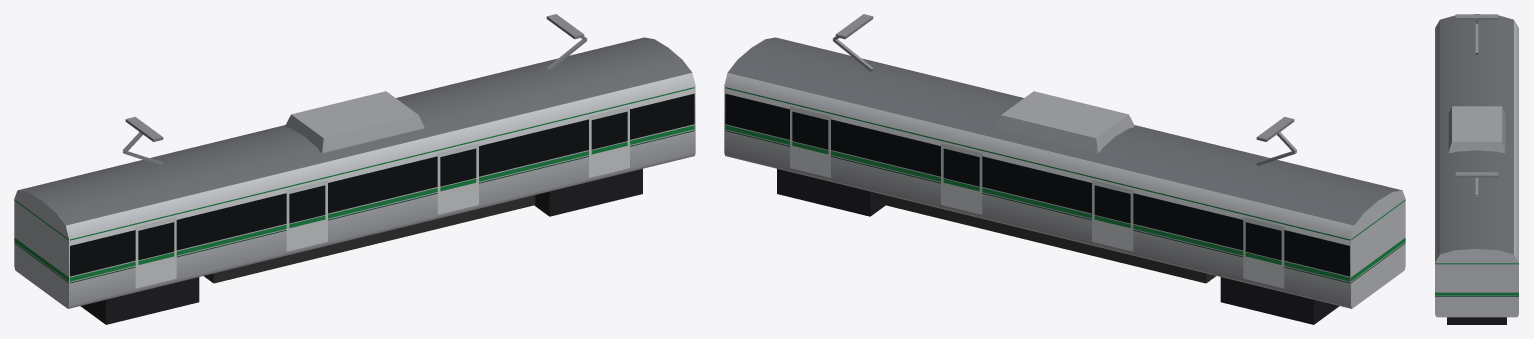
Rendered from r122_Mp_far.glb.
3 renders of one model, left to right at view 1: azimuth 30°, elevation 25°; view 2: azimuth 150°, elevation 25°; view 3: azimuth 270°, elevation 25°, orthographic. The views are drawn at different scales.
Parts seen in each view (by area): view 1: far_body, far_detail, far_roof_under, opt_ac, opt_snow_panto; view 2: far_body, far_detail, far_roof_under, opt_ac, opt_snow_panto; view 3: far_body, opt_ac, far_roof_under, opt_snow_panto.
Part boxes in pixels (<box>): far_body: <box>14,37,695,308</box>; far_detail: <box>70,87,694,288</box>; far_roof_under: <box>80,116,642,324</box>; opt_ac: <box>285,91,424,153</box>; opt_snow_panto: <box>546,14,587,71</box>; far_body: <box>724,37,1405,308</box>; far_detail: <box>725,87,1349,288</box>; far_roof_under: <box>777,116,1339,324</box>; opt_ac: <box>995,91,1134,153</box>; opt_snow_panto: <box>832,14,873,71</box>; far_body: <box>1435,14,1518,317</box>; opt_ac: <box>1448,106,1505,152</box>; far_roof_under: <box>1447,14,1506,324</box>; opt_snow_panto: <box>1455,172,1498,199</box>.
Size of the model in its own units: 19.5 by 5.01 by 3.01.
